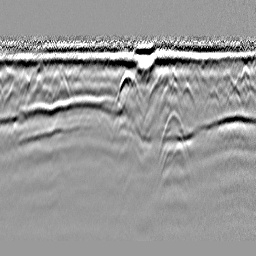cavity: (114, 69, 143, 103)
